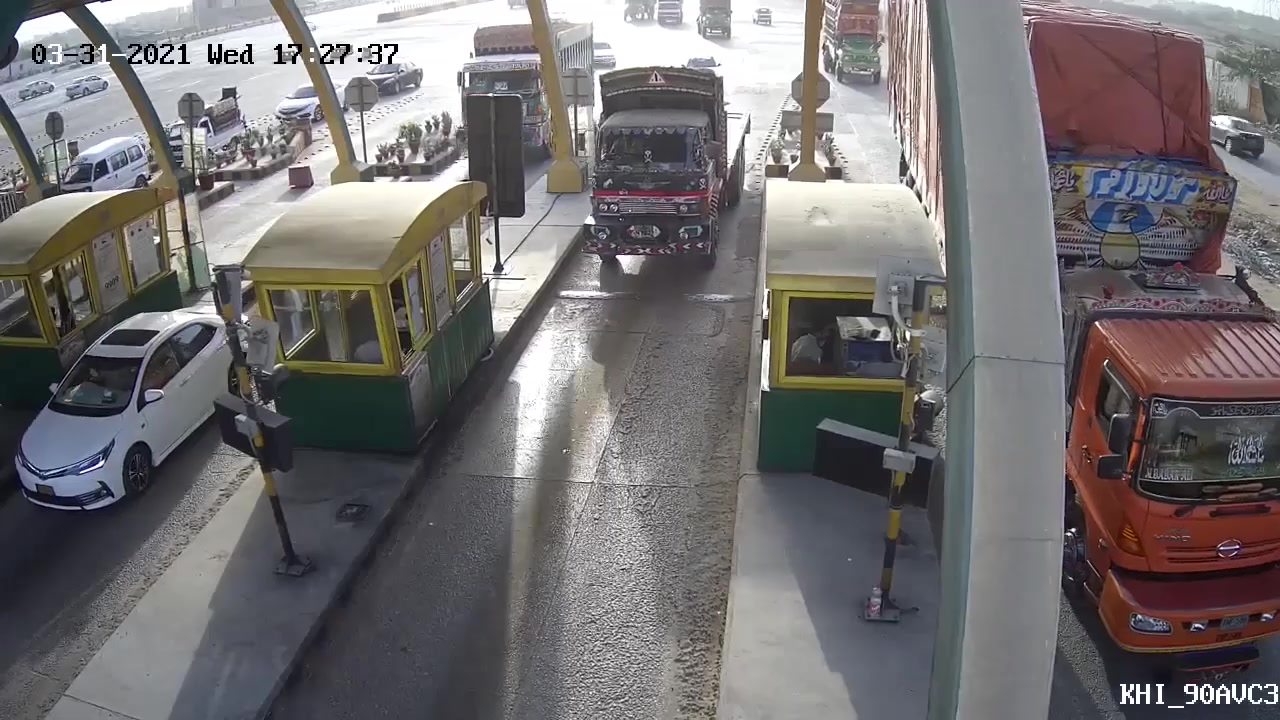F5: (576, 66, 738, 291)
